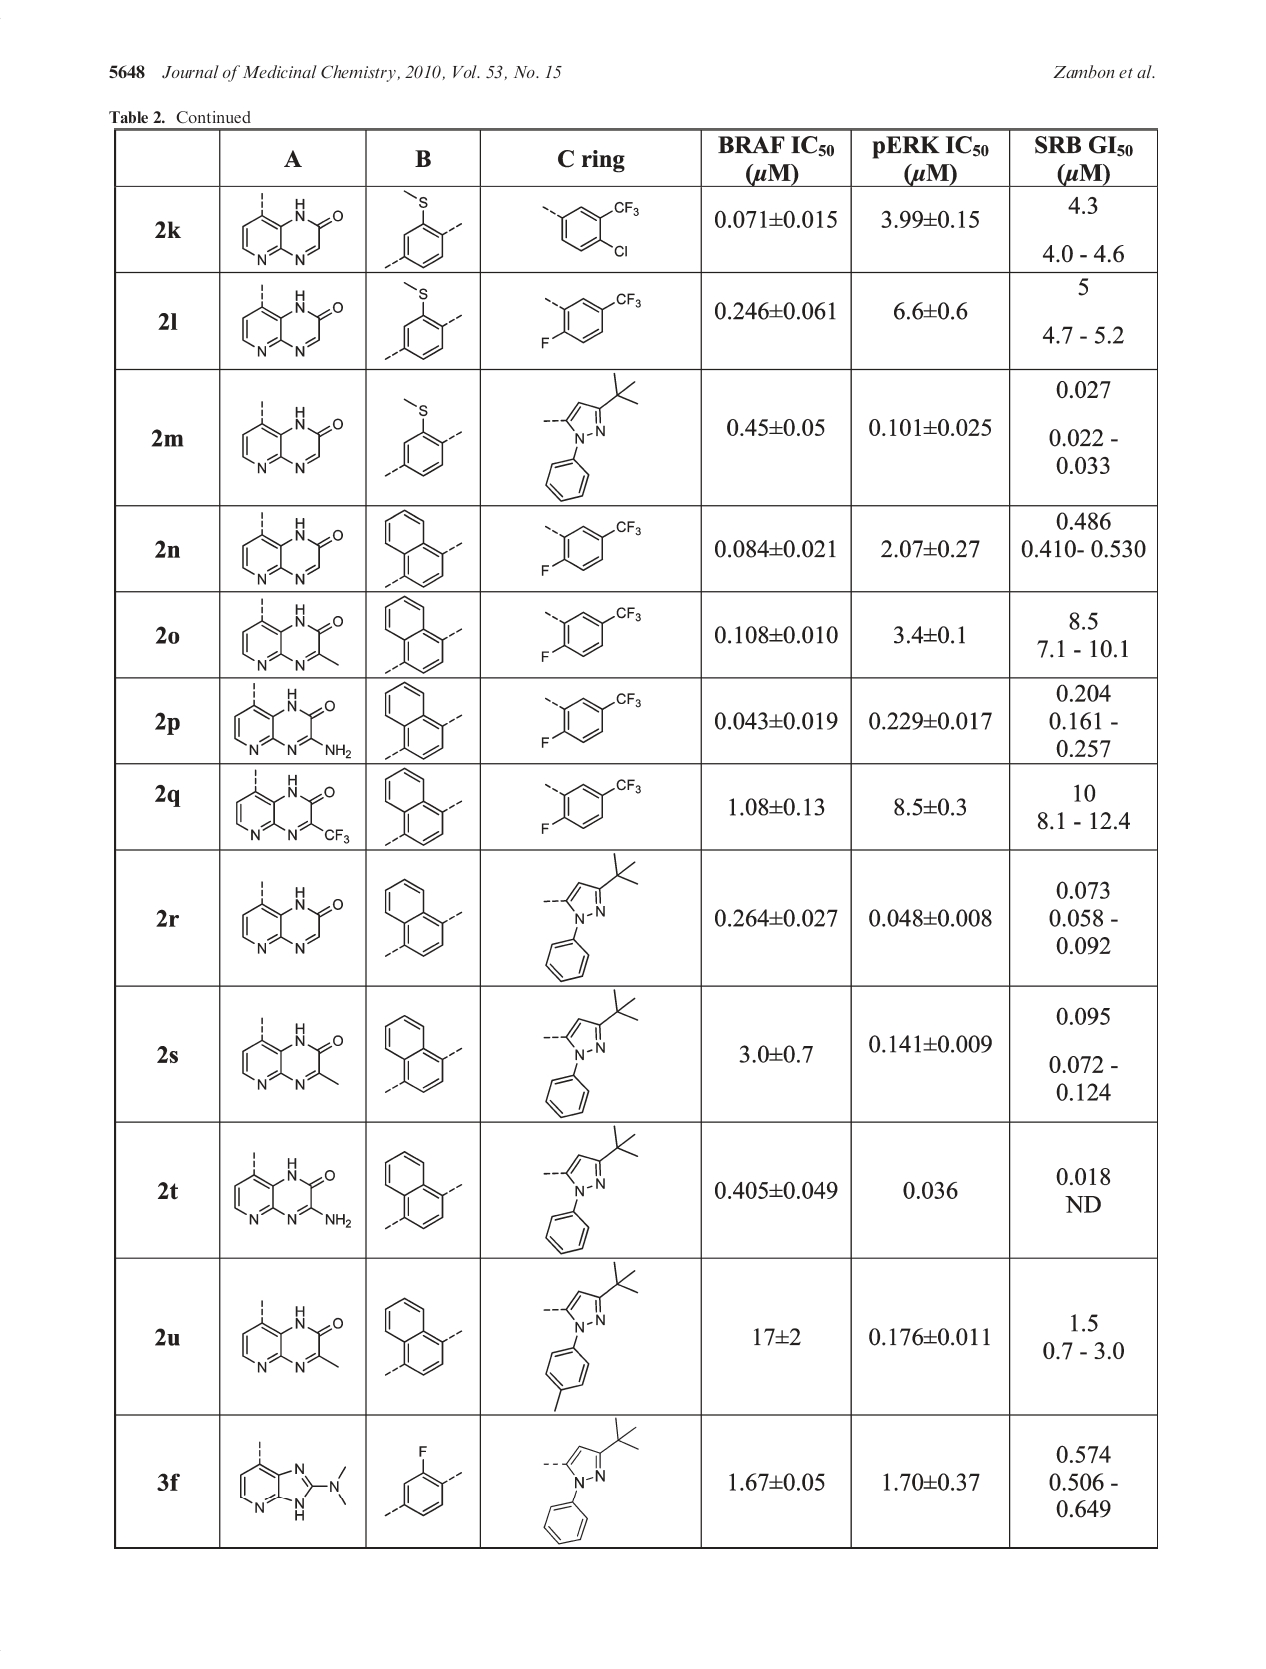exist_molecular: (544, 1261, 637, 1412), (541, 372, 640, 501), (543, 988, 640, 1118), (544, 851, 640, 983), (543, 1125, 640, 1254), (544, 1416, 638, 1547), (234, 1150, 352, 1230), (238, 1438, 348, 1523), (234, 769, 352, 846), (239, 1299, 344, 1378), (241, 285, 347, 360), (238, 1015, 344, 1091), (241, 192, 346, 267), (241, 399, 343, 476), (241, 878, 344, 954), (243, 594, 344, 672), (241, 511, 343, 586), (383, 594, 465, 676), (379, 508, 463, 588), (382, 878, 465, 958), (383, 1013, 464, 1094), (383, 398, 463, 480), (539, 600, 645, 661), (383, 681, 464, 761), (536, 515, 644, 575), (386, 1297, 464, 1378), (383, 1150, 463, 1229), (384, 189, 461, 267), (543, 194, 641, 255), (540, 289, 640, 348), (386, 282, 461, 360), (386, 769, 461, 847), (539, 690, 642, 747), (539, 777, 642, 833), (384, 1446, 463, 1517)
